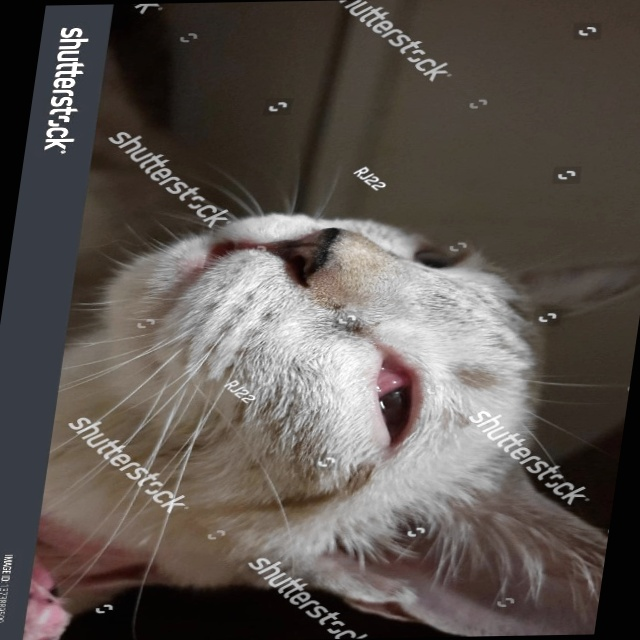eye_infection: (363, 360, 429, 449)
